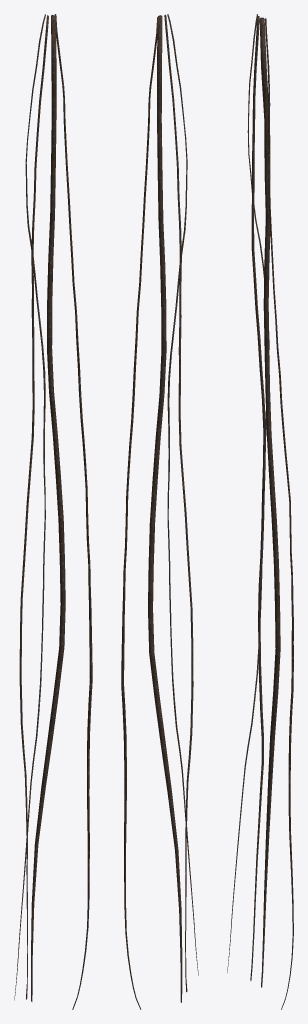
Rendered from P_TreeAerialRoot01.fbx.
3 views of the same model, side by side, from view 1: azimuth 30°, elevation 25°; view 2: azimuth 210°, elevation 25°; view 3: azimuth 330°, elevation 25° (orthographic).
Parts seen in each view (by area): view 1: P_TreeAerialRoot01; view 2: P_TreeAerialRoot01; view 3: P_TreeAerialRoot01.
Part boxes in pixels (left/top/right/bottom): P_TreeAerialRoot01: left=14, top=14, right=92, bottom=1009; P_TreeAerialRoot01: left=121, top=14, right=198, bottom=1009; P_TreeAerialRoot01: left=227, top=14, right=293, bottom=1009.
Bounding box in the file's own units: 191 × 2506 × 94.17.
